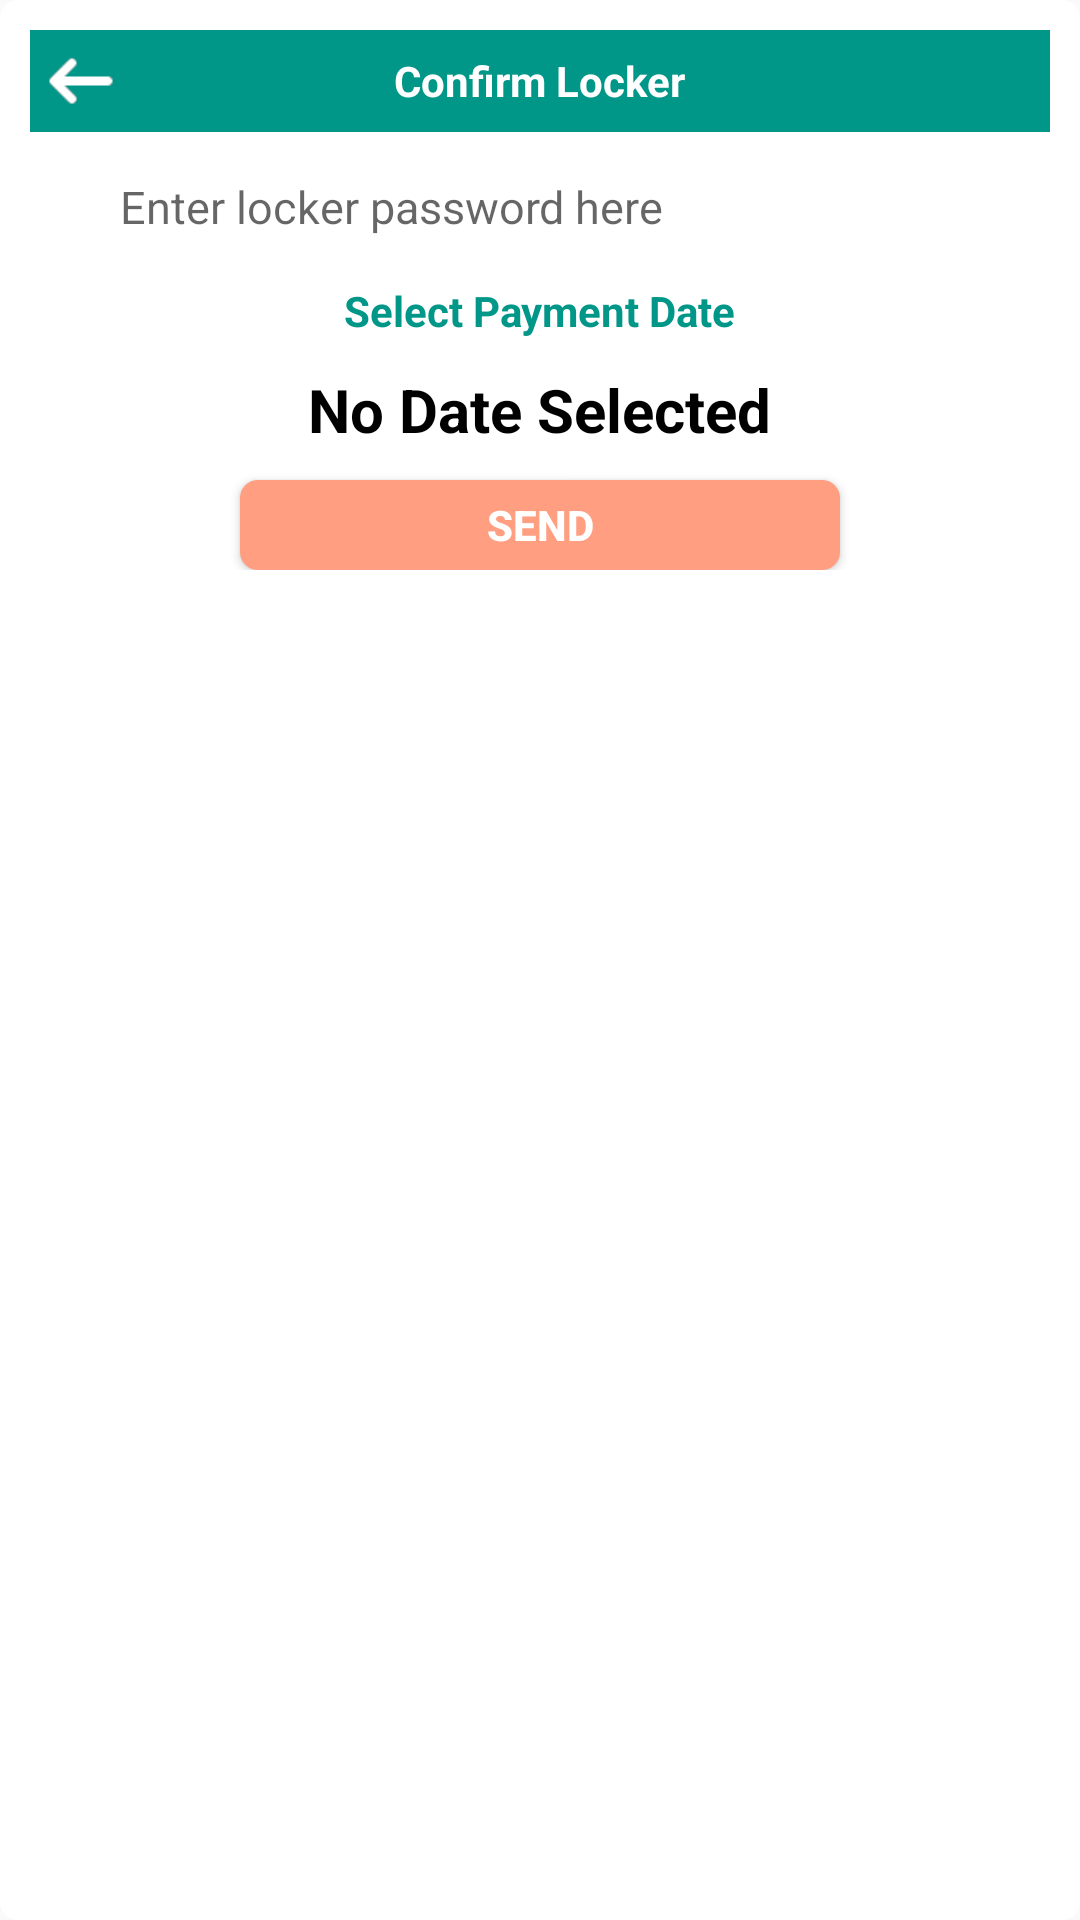

Icons on this 1080 × 1920 Android screen, each with its box as BBox(x1, y1, x2, y2):
back arrow: BBox(49, 58, 113, 104)
